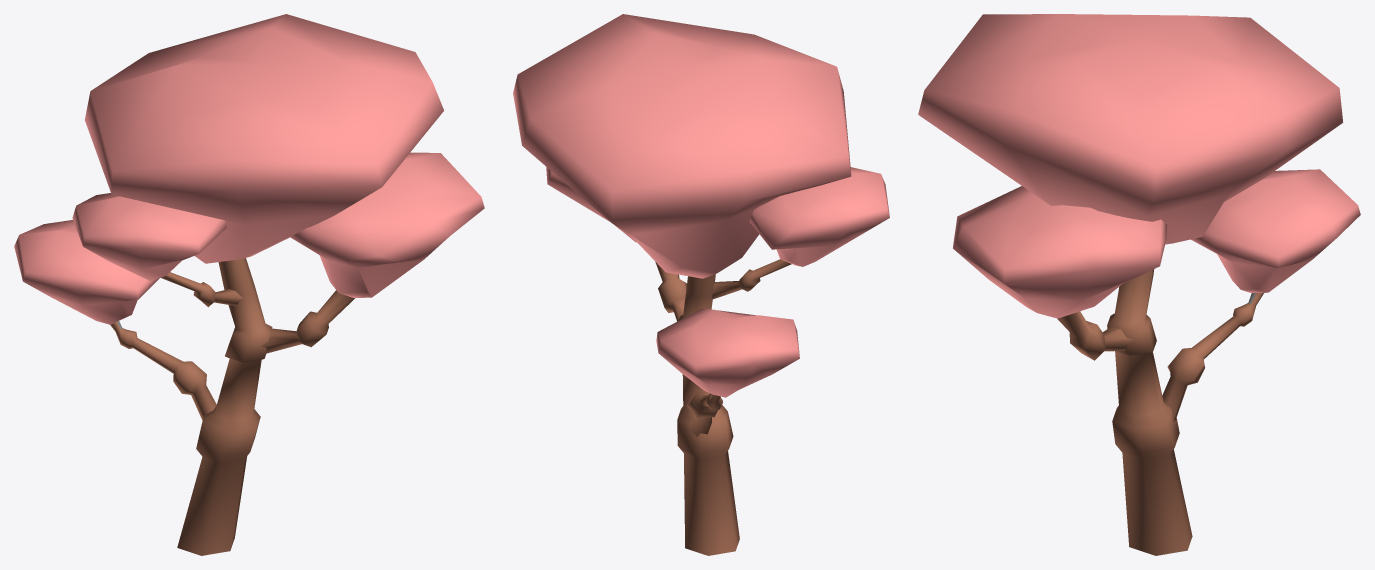
Rendered from pink.obj.
3 views of the same model, side by side, from view 1: azimuth 30°, elevation 25°; view 2: azimuth 150°, elevation 25°; view 3: azimuth 270°, elevation 25° (orthographic). The views are drawn at different scales.
Parts seen in each view (by area): view 1: TreePinkA; view 2: TreePinkA; view 3: TreePinkA.
Part boxes in pixels (left/top/right/bottom): TreePinkA: left=14, top=14, right=484, bottom=555; TreePinkA: left=513, top=14, right=889, bottom=555; TreePinkA: left=918, top=14, right=1360, bottom=555.
Size of the model in its own units: 4.41 by 5.57 by 4.19.
